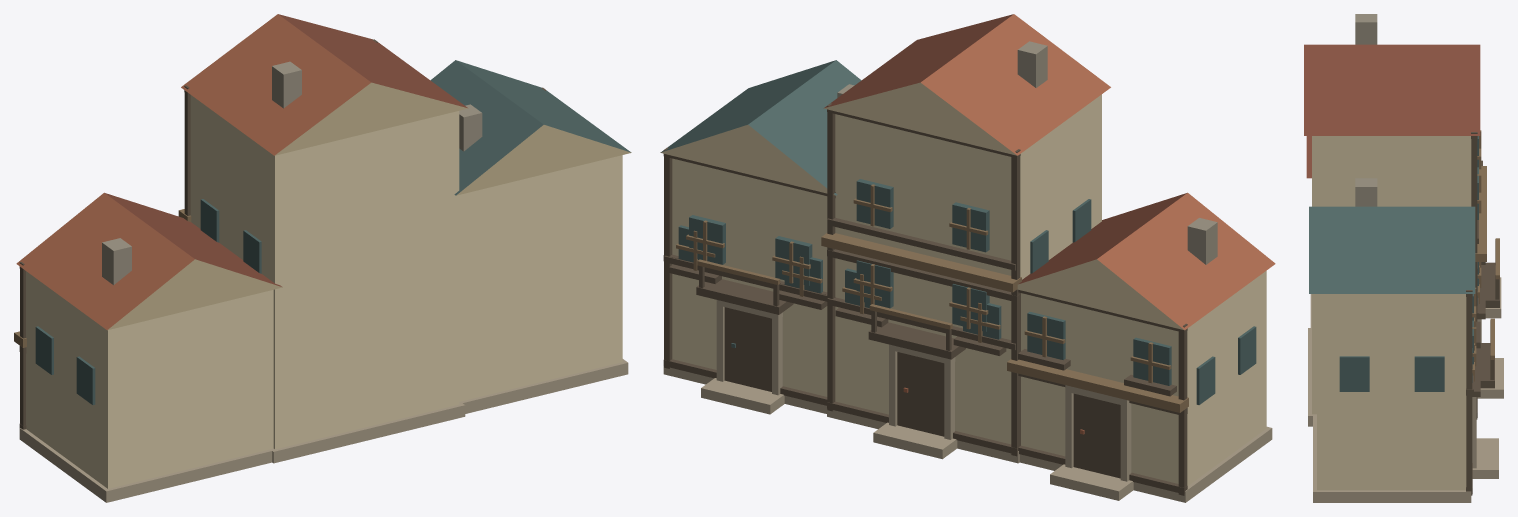
Rendered from Town_RowHousesC.fbx.
3 views of the same model, side by side, from view 1: azimuth 30°, elevation 25°; view 2: azimuth 150°, elevation 25°; view 3: azimuth 270°, elevation 25° (orthographic). The views are drawn at different scales.
Parts seen in each view (by area): view 1: Town_RowHousesC; view 2: Town_RowHousesC; view 3: Town_RowHousesC.
Part boxes in pixels (bbox=[...]): Town_RowHousesC: bbox=[14, 14, 631, 502]; Town_RowHousesC: bbox=[660, 14, 1275, 502]; Town_RowHousesC: bbox=[1304, 14, 1503, 502].
Bounding box in the file's own units: 11.42 × 7.51 × 3.99.
